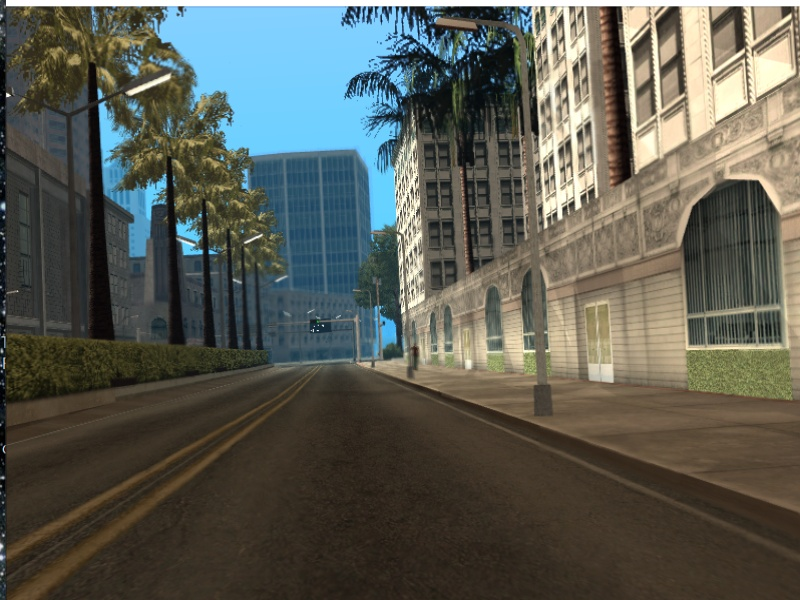pole: (511, 31, 561, 416), (401, 234, 417, 385), (363, 287, 378, 370), (353, 320, 361, 368)
